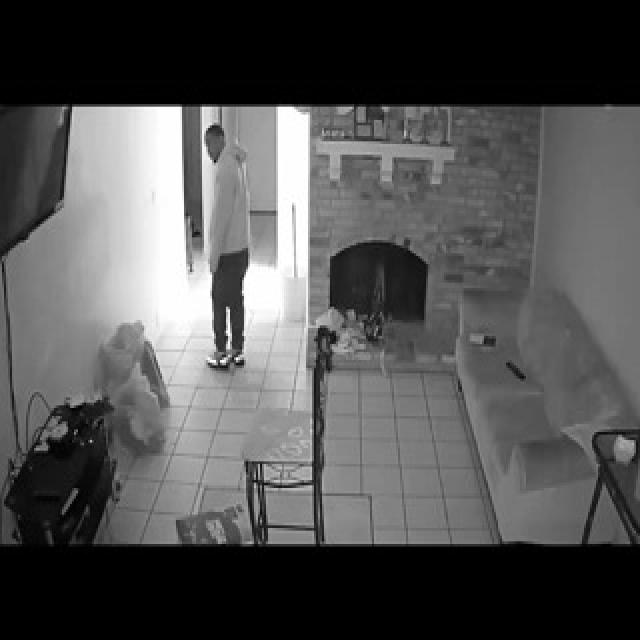thief: (190, 114, 253, 226)
